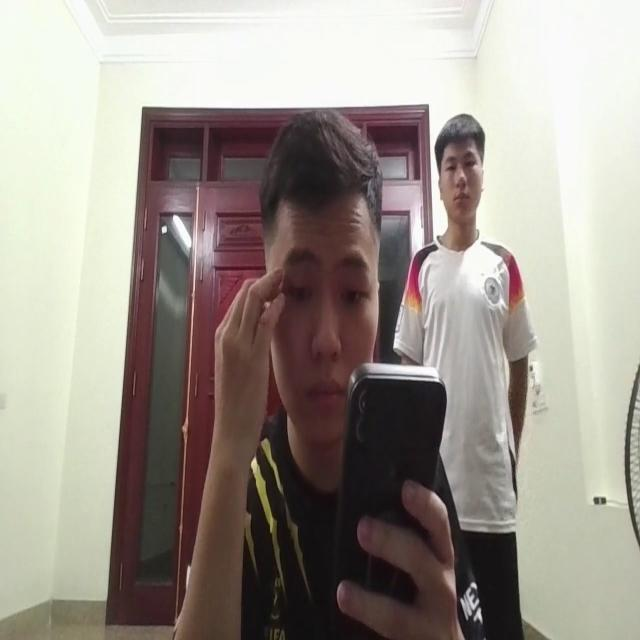extra_person: (409, 104, 529, 560)
phone: (338, 358, 446, 619)
student: (196, 104, 430, 640)
